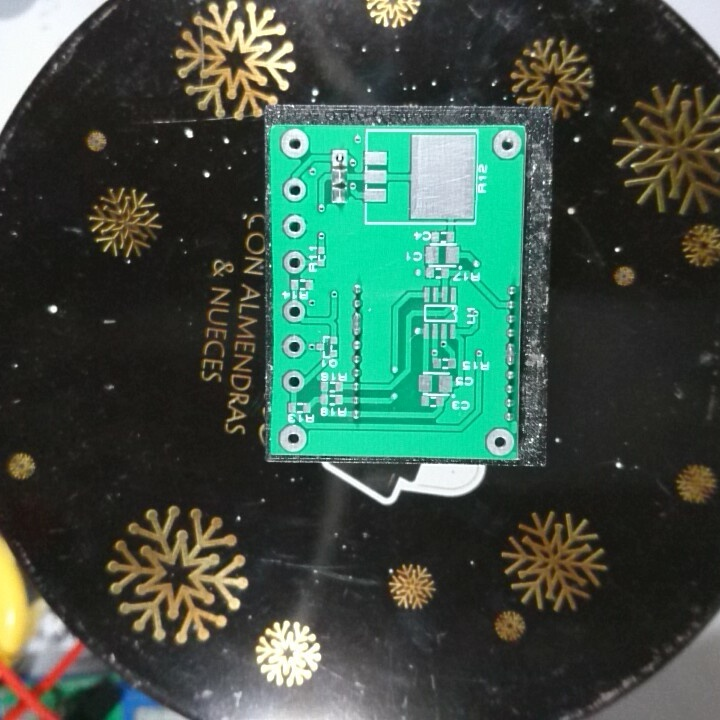F: (276, 126, 313, 163), (276, 421, 309, 454), (486, 426, 518, 458), (490, 127, 519, 160), (281, 212, 310, 243), (278, 331, 307, 360), (281, 176, 308, 206), (281, 296, 307, 326), (283, 249, 309, 278), (280, 368, 307, 393), (327, 145, 351, 169)
P: (350, 309, 367, 339), (504, 340, 519, 372)
